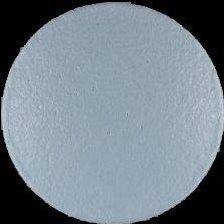62756-523: (0, 0, 224, 224)
